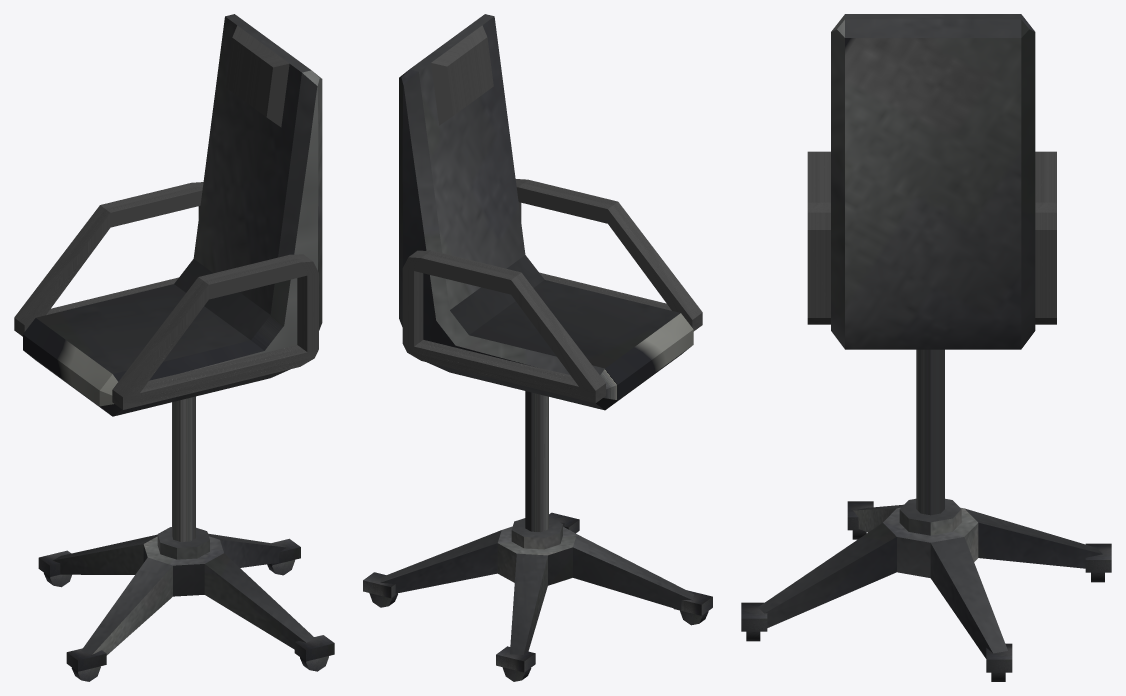
File: desk chair.FBX
3 renders of one model, left to right at view 1: azimuth 30°, elevation 25°; view 2: azimuth 150°, elevation 25°; view 3: azimuth 270°, elevation 25°, orthographic. The views are drawn at different scales.
Parts seen in each view (by area): view 1: Box001, Cylinder001, Box006, Box007, Object001, Box002, Box004; view 2: Box001, Cylinder001, Box007, Box006, Object001, Box003, Box005, Box004; view 3: Box001, Cylinder001, Box006, Box007, Box002, Box003, Box005.
Part boxes in pixels (x1,y1,x2,y2): Box001: (23,14,322,416); Cylinder001: (53,396,314,655); Box006: (112,254,318,409); Box007: (14,182,203,336); Object001: (226,25,289,127); Box002: (294,635,334,661); Box004: (66,648,106,671); Box001: (399,14,693,410); Cylinder001: (378,391,694,654); Box007: (402,250,605,403); Box006: (515,179,702,331); Object001: (431,25,493,125); Box003: (496,646,535,672); Box005: (363,572,397,598); Box004: (673,590,712,615); Box001: (831,14,1035,349); Cylinder001: (758,349,1102,658); Box006: (807,151,830,324); Box007: (1035,151,1056,324); Box002: (741,602,767,631); Box003: (1085,543,1111,572); Box005: (986,643,1012,672).
Size of the model in its own units: 1660 by 3138 by 1641.
3 materials, 3 textured.
